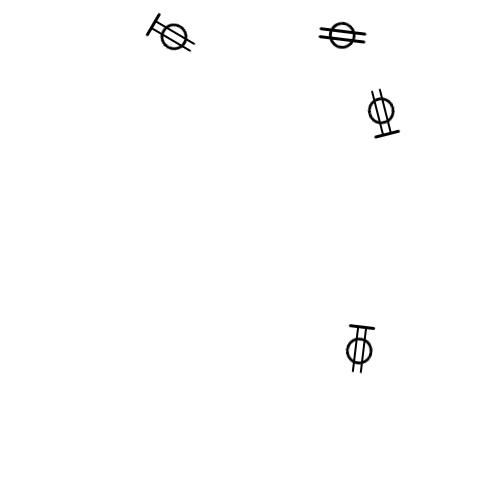Duplex-Receptacle: (147, 19, 199, 52), (355, 96, 407, 129), (334, 333, 386, 366), (317, 19, 370, 50)
